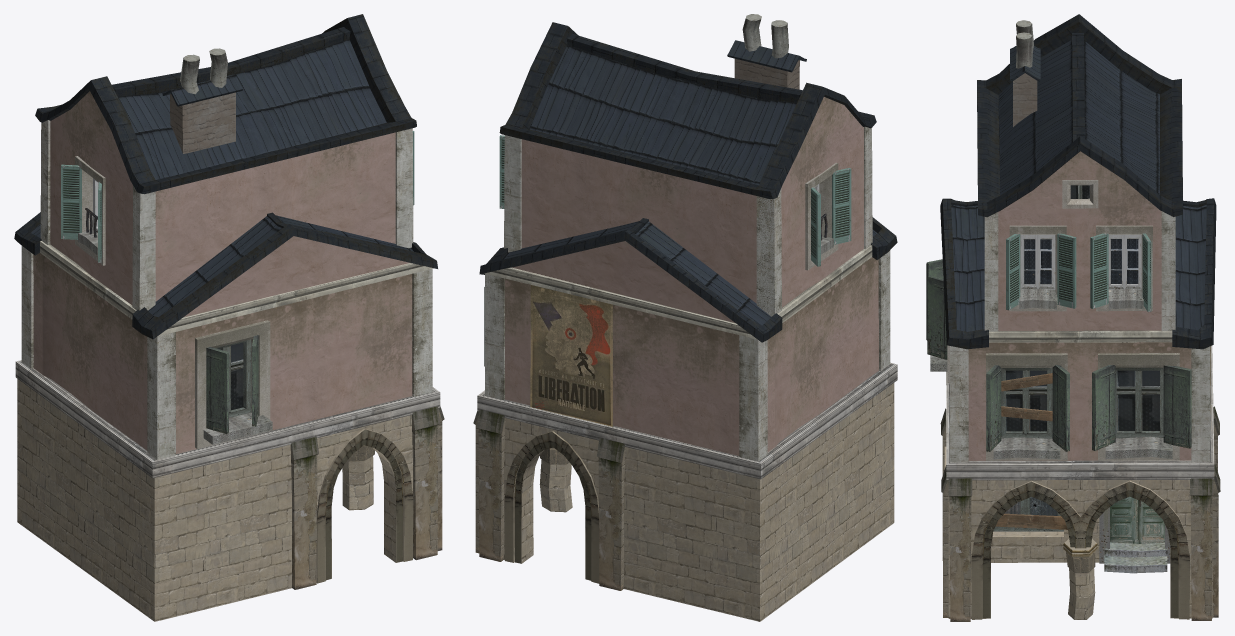
Rendered from casa4.fbx.
3 renders of one model, left to right at view 1: azimuth 30°, elevation 25°; view 2: azimuth 150°, elevation 25°; view 3: azimuth 270°, elevation 25°, orthographic. The views are drawn at different scales.
Parts seen in each view (by area): view 1: House_Flowershop; view 2: House_Flowershop; view 3: House_Flowershop.
Boxes of the visible parts, bbox=[...] form: House_Flowershop: bbox=[14, 14, 444, 621]; House_Flowershop: bbox=[473, 14, 897, 621]; House_Flowershop: bbox=[926, 14, 1220, 621].
Bounding box in the file's own units: 908 × 1455 × 776.
